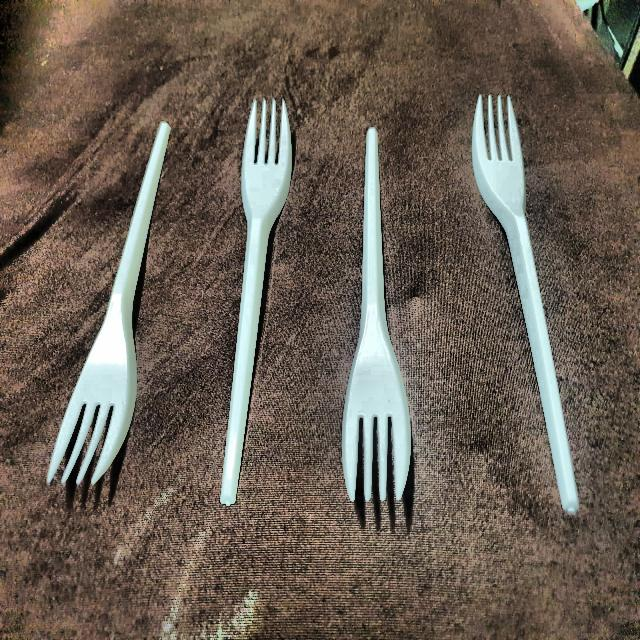plastic utensil: (470, 94, 585, 524), (43, 116, 172, 498), (209, 92, 297, 513), (340, 116, 414, 512)
